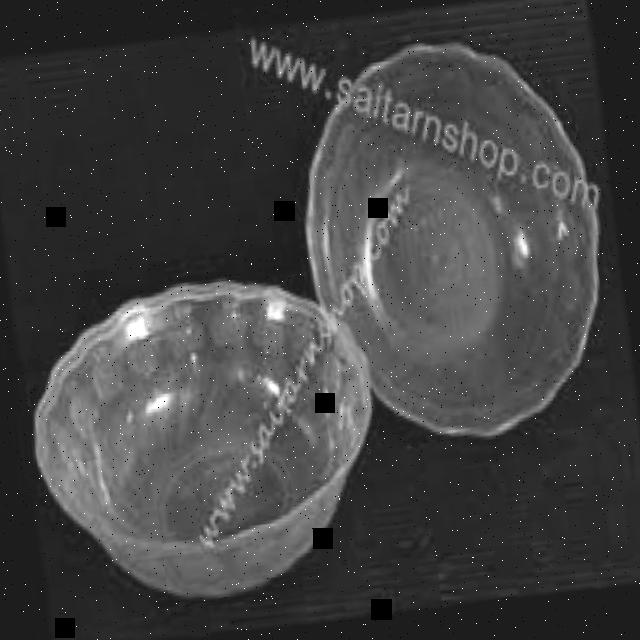plastic_box: (286, 23, 624, 454), (14, 266, 390, 610)
